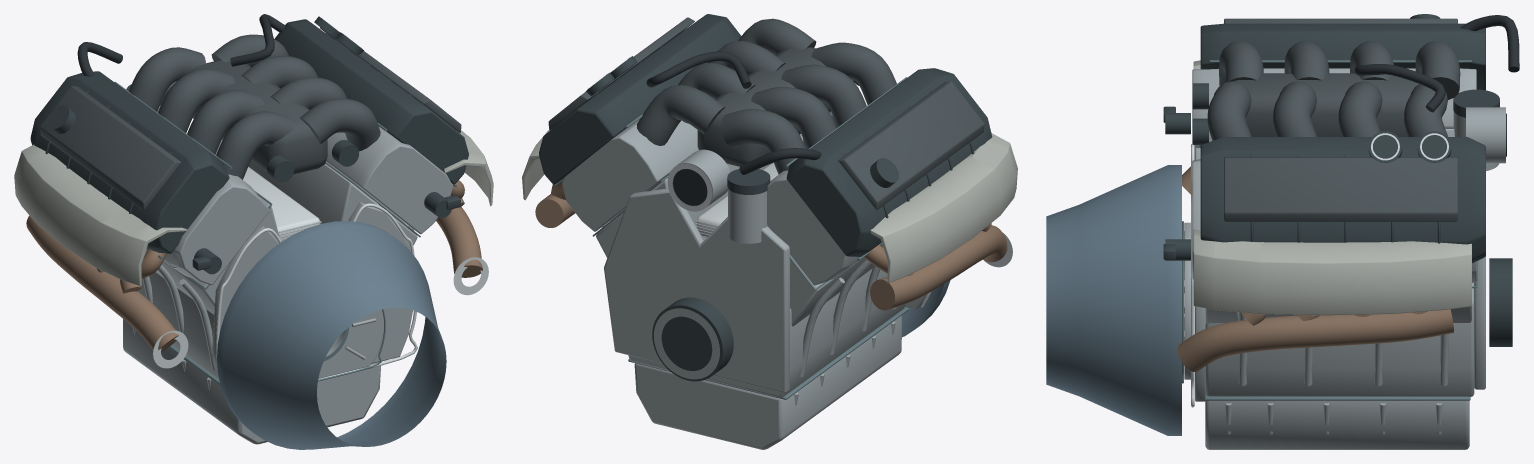
Rendered from aj133-phase2b.glb.
3 renders of one model, left to right at view 1: azimuth 30°, elevation 25°; view 2: azimuth 150°, elevation 25°; view 3: azimuth 270°, elevation 25°, orthographic. The views are drawn at different scales.
Parts seen in each view (by area): view 1: Bellhousing_Envelope__Unverified_transmission_envelope, Intake_NA__NA_composite_intake, Cover_LH__Composite_cam_covers, Shield_LH__Formed_heat_shield, Cover_RH__Composite_cam_covers, Block__Cast_aluminium, Cover_LH__NA_composite_intake, Sump_L320__Cast_aluminium, Head_RH__Cast_aluminium, Head_LH__Cast_aluminium, Exhaust_LH__Exhaust_heat-aged_metal, RearFace__Cast_aluminium (+13 smaller); view 2: FrontCover__Cast_aluminium, Intake_NA__NA_composite_intake, Sump_L320__Cast_aluminium, Cover_LH__Composite_cam_covers, Block__Cast_aluminium, Shield_LH__Formed_heat_shield, Cover_RH__Composite_cam_covers, Cover_LH__NA_composite_intake, Head_RH__Cast_aluminium, Head_LH__Cast_aluminium, Exhaust_LH__Exhaust_heat-aged_metal, FrontCover__Composite_cam_covers (+12 smaller); view 3: Bellhousing_Envelope__Unverified_transmission_envelope, Shield_RH__Formed_heat_shield, Intake_NA__NA_composite_intake, Block__Cast_aluminium, Cover_RH__Composite_cam_covers, Cover_RH__NA_composite_intake, Sump_L320__Cast_aluminium, Cover_LH__Composite_cam_covers, Exhaust_RH__Exhaust_heat-aged_metal, FrontCover__Composite_cam_covers, Intake_NA__Cast_aluminium, Head_LH__Cast_aluminium (+13 smaller).
Part boxes in pixels (bbox=[...]): Bellhousing_Envelope__Unverified_transmission_envelope: bbox=[217, 221, 446, 449]; Intake_NA__NA_composite_intake: bbox=[129, 34, 380, 179]; Cover_LH__Composite_cam_covers: bbox=[30, 71, 229, 253]; Shield_LH__Formed_heat_shield: bbox=[14, 144, 187, 286]; Cover_RH__Composite_cam_covers: bbox=[274, 16, 468, 184]; Block__Cast_aluminium: bbox=[138, 105, 417, 379]; Cover_LH__NA_composite_intake: bbox=[40, 86, 181, 210]; Sump_L320__Cast_aluminium: bbox=[123, 319, 380, 444]; Head_RH__Cast_aluminium: bbox=[326, 127, 452, 234]; Head_LH__Cast_aluminium: bbox=[164, 174, 269, 285]; Exhaust_LH__Exhaust_heat-aged_metal: bbox=[26, 215, 178, 352]; RearFace__Cast_aluminium: bbox=[212, 202, 412, 378]; FrontCover__Cast_aluminium: bbox=[604, 188, 789, 392]; Intake_NA__NA_composite_intake: bbox=[637, 18, 896, 174]; Sump_L320__Cast_aluminium: bbox=[634, 315, 901, 449]; Cover_LH__Composite_cam_covers: bbox=[786, 68, 992, 256]; Block__Cast_aluminium: bbox=[596, 163, 905, 397]; Shield_LH__Formed_heat_shield: bbox=[870, 133, 1017, 283]; Cover_RH__Composite_cam_covers: bbox=[539, 14, 741, 184]; Cover_LH__NA_composite_intake: bbox=[838, 81, 984, 210]; Head_RH__Cast_aluminium: bbox=[562, 119, 698, 231]; Head_LH__Cast_aluminium: bbox=[767, 170, 859, 285]; Exhaust_LH__Exhaust_heat-aged_metal: bbox=[864, 223, 1007, 310]; FrontCover__Composite_cam_covers: bbox=[652, 297, 733, 381]; Bellhousing_Envelope__Unverified_transmission_envelope: bbox=[1046, 165, 1181, 435]; Shield_RH__Formed_heat_shield: bbox=[1193, 229, 1471, 315]; Intake_NA__NA_composite_intake: bbox=[1207, 41, 1460, 140]; Block__Cast_aluminium: bbox=[1205, 111, 1499, 396]; Cover_RH__Composite_cam_covers: bbox=[1200, 131, 1485, 263]; Cover_RH__NA_composite_intake: bbox=[1224, 157, 1457, 221]; Sump_L320__Cast_aluminium: bbox=[1205, 400, 1469, 449]; Cover_LH__Composite_cam_covers: bbox=[1200, 14, 1485, 90]; Exhaust_RH__Exhaust_heat-aged_metal: bbox=[1177, 309, 1453, 371]; FrontCover__Composite_cam_covers: bbox=[1489, 258, 1512, 346]; Intake_NA__Cast_aluminium: bbox=[1466, 107, 1505, 163]; Head_LH__Cast_aluminium: bbox=[1192, 68, 1476, 159].
Size of the model in its own units: 1.08 by 0.896 by 1.01.
